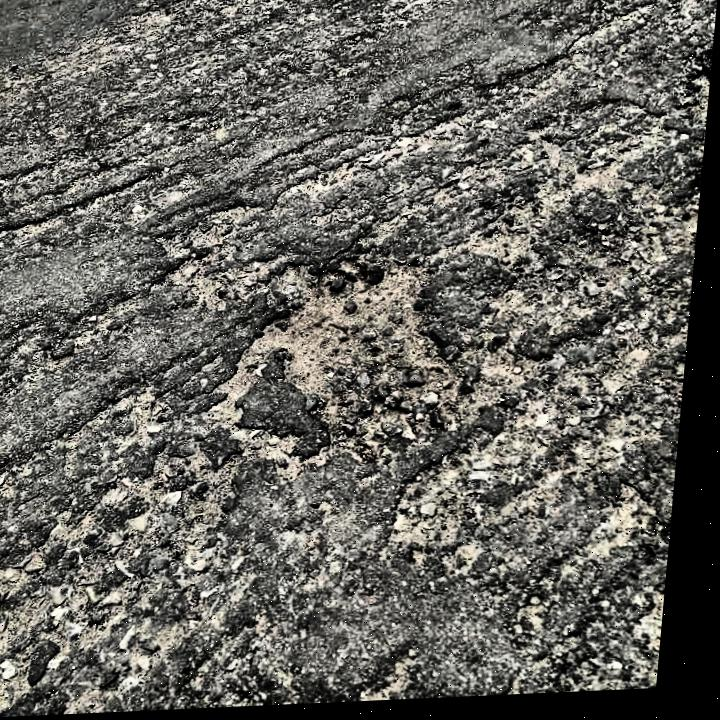pothole: (239, 246, 478, 458)
